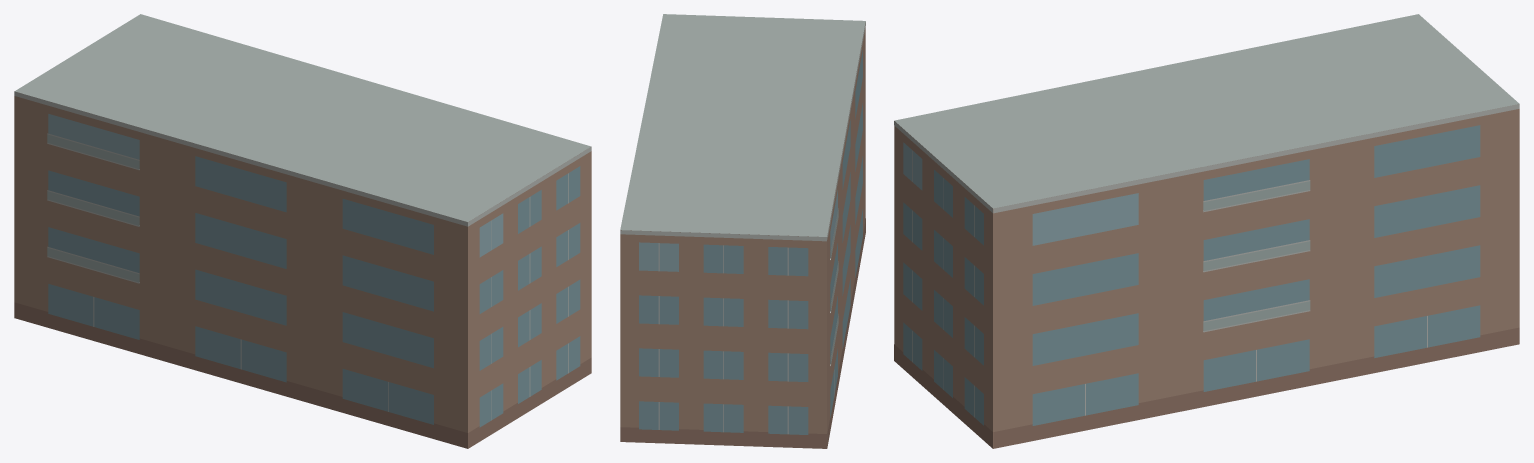
File: survey-upis-32697532.glb
3 views of the same model, side by side, from view 1: azimuth 30°, elevation 25°; view 2: azimuth 150°, elevation 25°; view 3: azimuth 270°, elevation 25° (orthographic). The views are drawn at different scales.
Parts seen in each view (by area): view 1: survey-upis-32697532.tmp; view 2: survey-upis-32697532.tmp; view 3: survey-upis-32697532.tmp.
Boxes of the visible parts, bbox=[...] form: survey-upis-32697532.tmp: bbox=[14, 14, 591, 448]; survey-upis-32697532.tmp: bbox=[620, 14, 865, 448]; survey-upis-32697532.tmp: bbox=[894, 14, 1519, 448].
Size of the model in its own units: 21.2 by 12.2 by 28.79.
